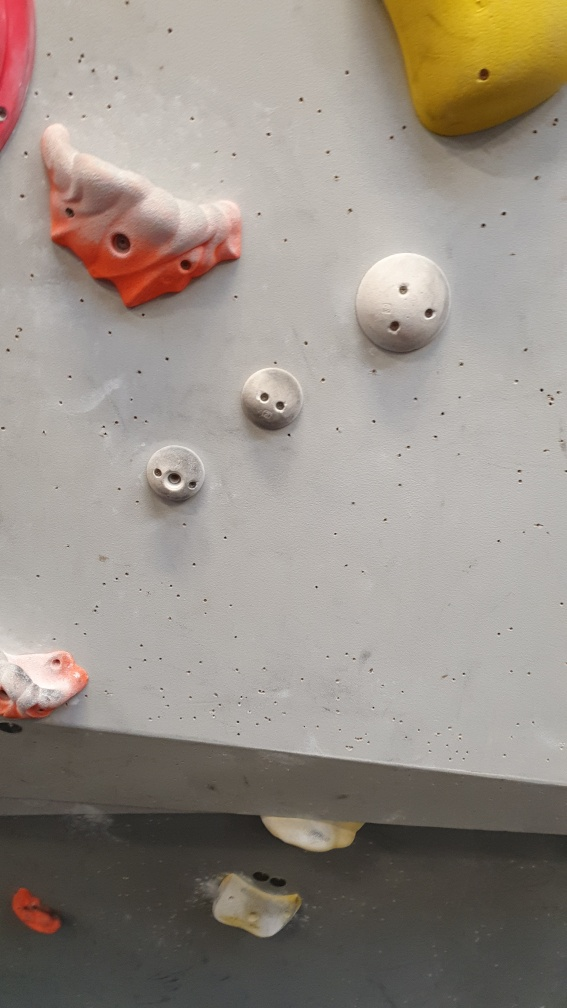Jug: (41, 114, 248, 313), (1, 636, 91, 725), (13, 885, 63, 937)
Sloper: (352, 245, 454, 361), (238, 364, 306, 437), (142, 438, 210, 502)
